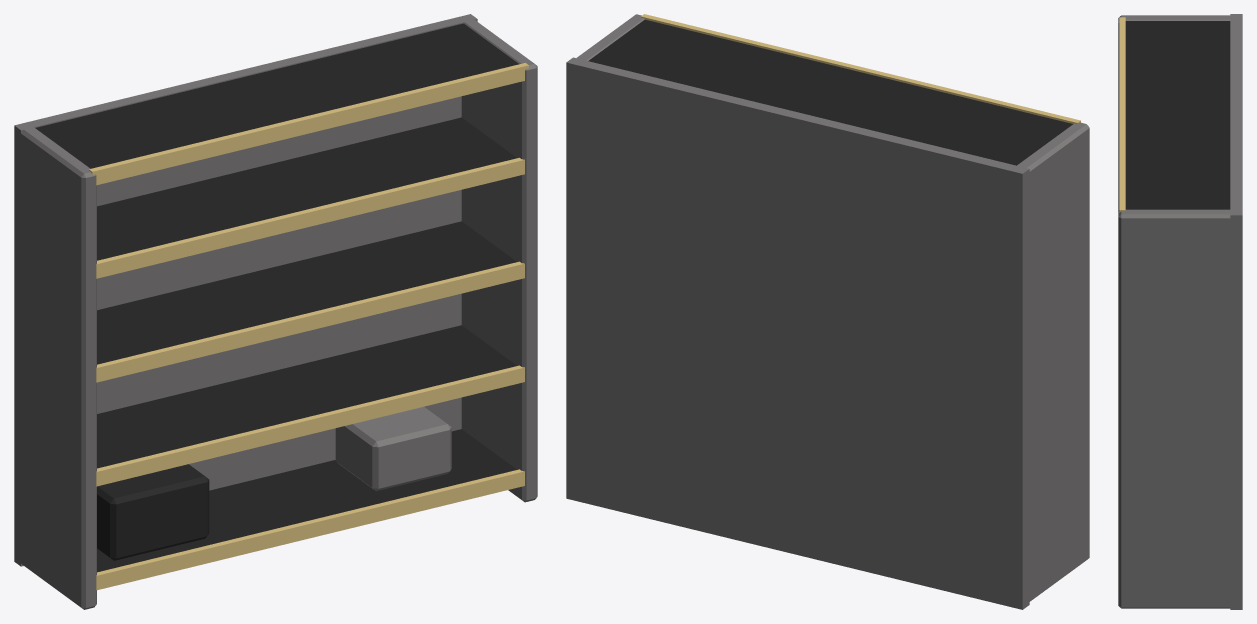
Rendered from lt_shelf_wk.glb.
3 views of the same model, side by side, from view 1: azimuth 30°, elevation 25°; view 2: azimuth 150°, elevation 25°; view 3: azimuth 270°, elevation 25° (orthographic). The views are drawn at different scales.
Visible parts, largest first — view 1: lt_shelf_wk; view 2: lt_shelf_wk; view 3: lt_shelf_wk.
Part boxes in pixels (<box>): lt_shelf_wk: <box>14,14,537,609</box>; lt_shelf_wk: <box>566,14,1089,609</box>; lt_shelf_wk: <box>1118,14,1242,609</box>.
Size of the model in its own units: 2.3 by 2.11 by 0.6.
